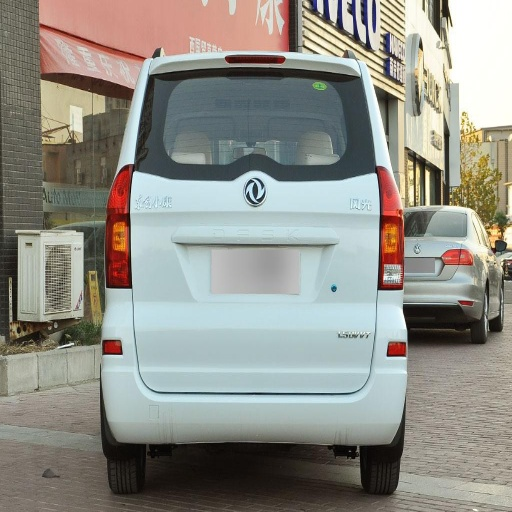back_bumper: (104, 291, 409, 445)
tailgate: (133, 170, 380, 300)
trunk: (111, 245, 379, 391), (421, 236, 463, 278)
